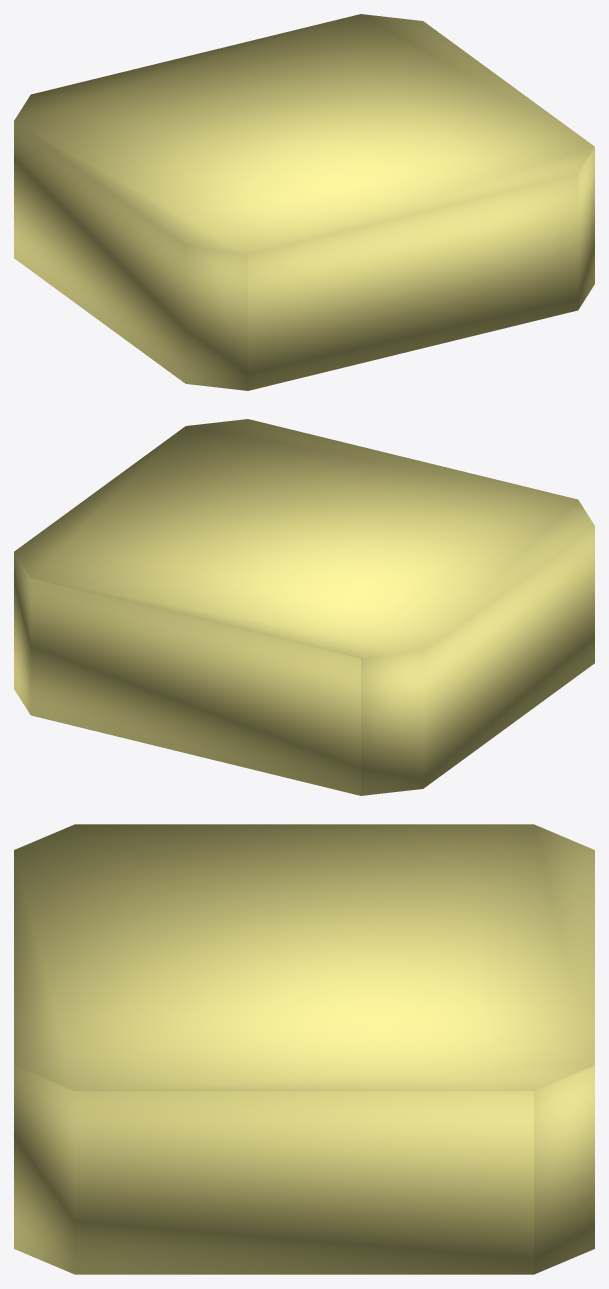
The model's file is Pat Of Butter 2.FBX.
The picture shows the model from 3 angles, top to bottom: view 1: azimuth 30°, elevation 25°; view 2: azimuth 150°, elevation 25°; view 3: azimuth 270°, elevation 25°; orthographic projection. The views are drawn at different scales.
Parts seen in each view (by area): view 1: Butter; view 2: Butter; view 3: Butter.
Boxes of the visible parts, bbox=[...] form: Butter: bbox=[14, 14, 594, 390]; Butter: bbox=[14, 419, 594, 795]; Butter: bbox=[14, 824, 594, 1274].
Size of the model in its own units: 31.87 by 10.21 by 29.31.
